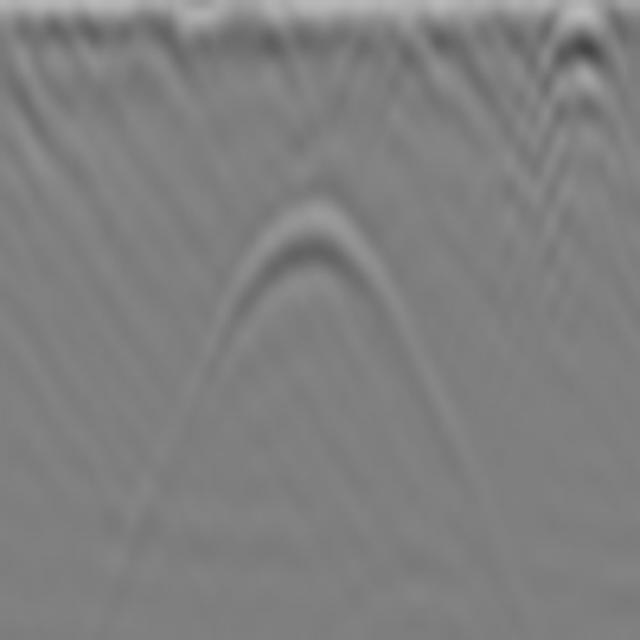hyperbola: (197, 188, 416, 402)
